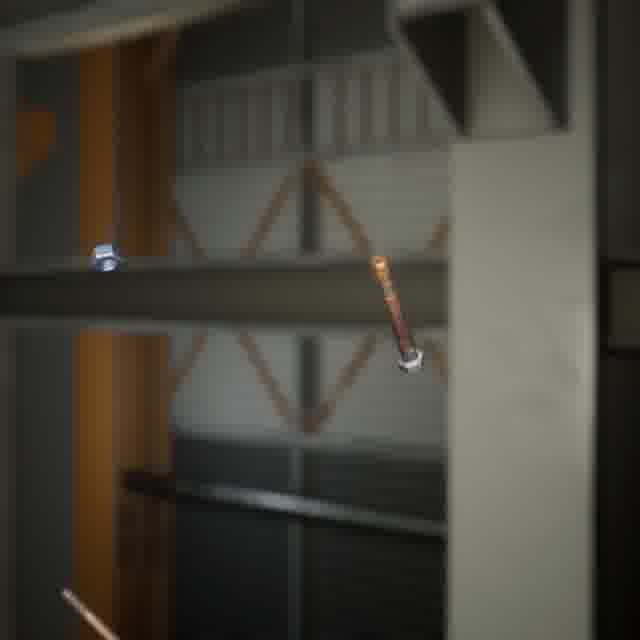bolt: (366, 250, 428, 377), (56, 582, 126, 640)
nut: (85, 239, 127, 278)
